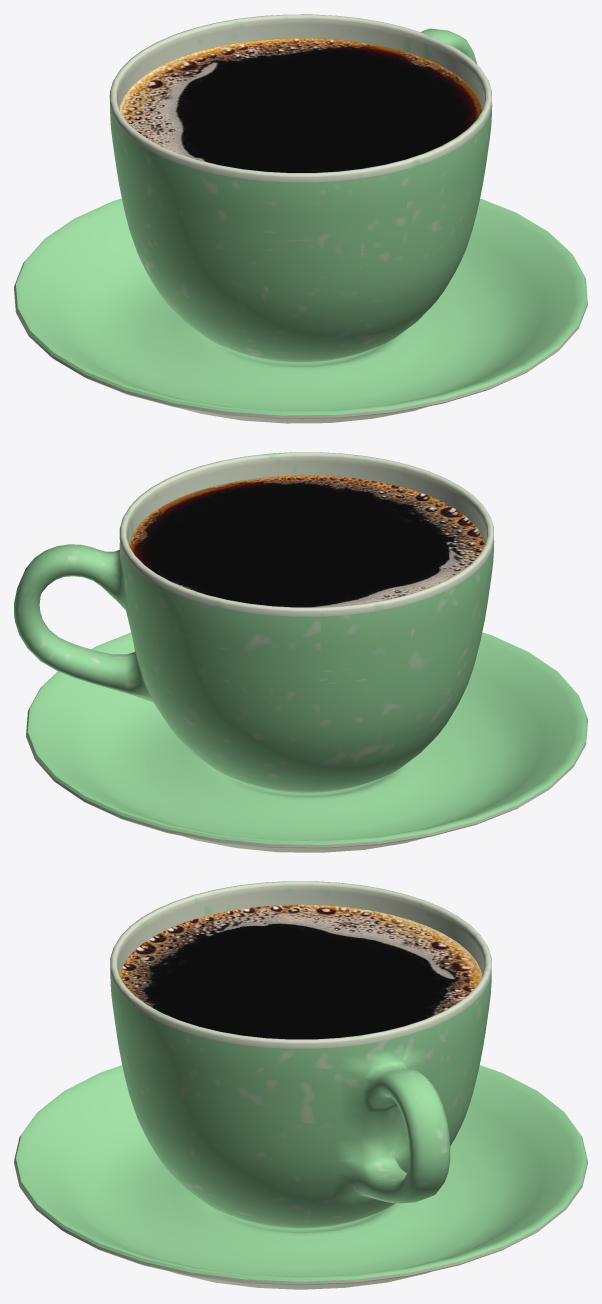
File: americano.gltf
3 renders of one model, top to bottom at view 1: azimuth 30°, elevation 25°; view 2: azimuth 150°, elevation 25°; view 3: azimuth 270°, elevation 25°, orthographic. The views are drawn at different scales.
Visible parts, largest first — view 1: cup, pisin, liquid; view 2: cup, pisin, liquid; view 3: cup, pisin, liquid.
Part boxes in pixels (x1,y1,x2,y2): cup: (109, 14, 492, 362); pisin: (14, 198, 587, 423); liquid: (119, 38, 482, 172); cup: (14, 452, 494, 792); pisin: (26, 632, 587, 852); liquid: (129, 475, 484, 607); cup: (110, 881, 491, 1228); pisin: (14, 1065, 587, 1289); liquid: (120, 904, 481, 1039).
Bounding box in the file's own units: 2.94 × 1.37 × 2.94.
Materials: 3 (3 with a texture image).
